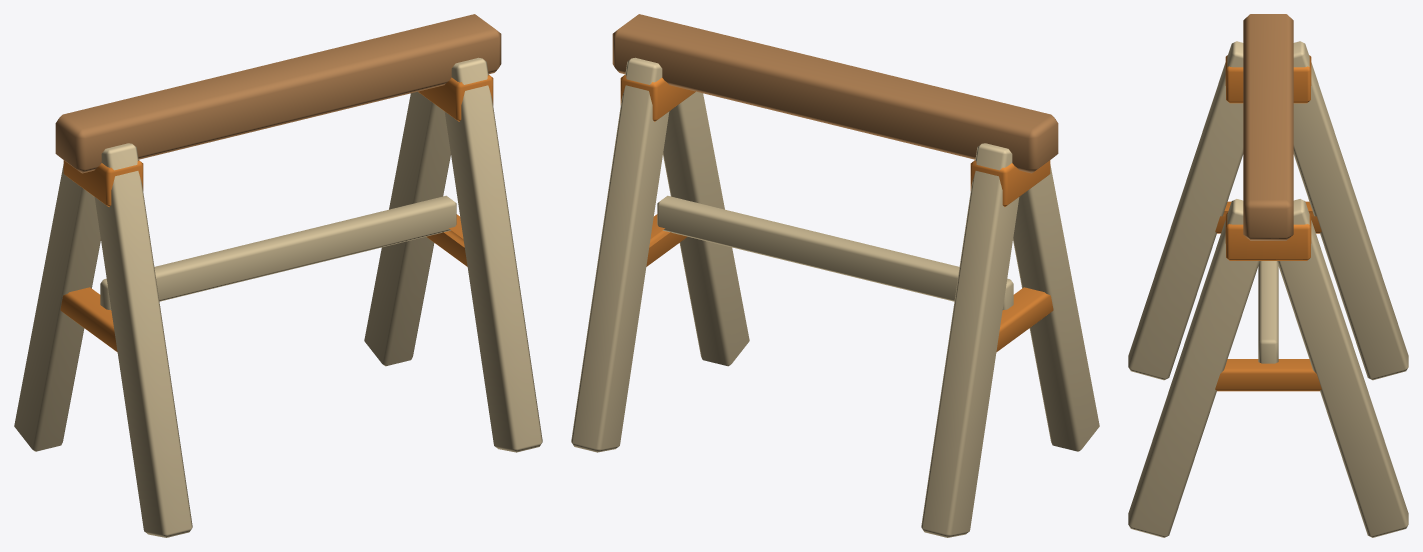
The model's file is SM_Sawhorse_Wood_01.glb.
3 renders of one model, left to right at view 1: azimuth 30°, elevation 25°; view 2: azimuth 150°, elevation 25°; view 3: azimuth 270°, elevation 25°, orthographic. The views are drawn at different scales.
Visible parts, largest first — view 1: SM_Sawhorse_Wood_01; view 2: SM_Sawhorse_Wood_01; view 3: SM_Sawhorse_Wood_01.
Part boxes in pixels (x1=…): SM_Sawhorse_Wood_01: x1=14, y1=14, x2=542, y2=537; SM_Sawhorse_Wood_01: x1=571, y1=14, x2=1099, y2=537; SM_Sawhorse_Wood_01: x1=1128, y1=14, x2=1408, y2=537.
Bounding box in the file's own units: 0.9 × 0.7599 × 0.5568.
1 material, 1 textured.
